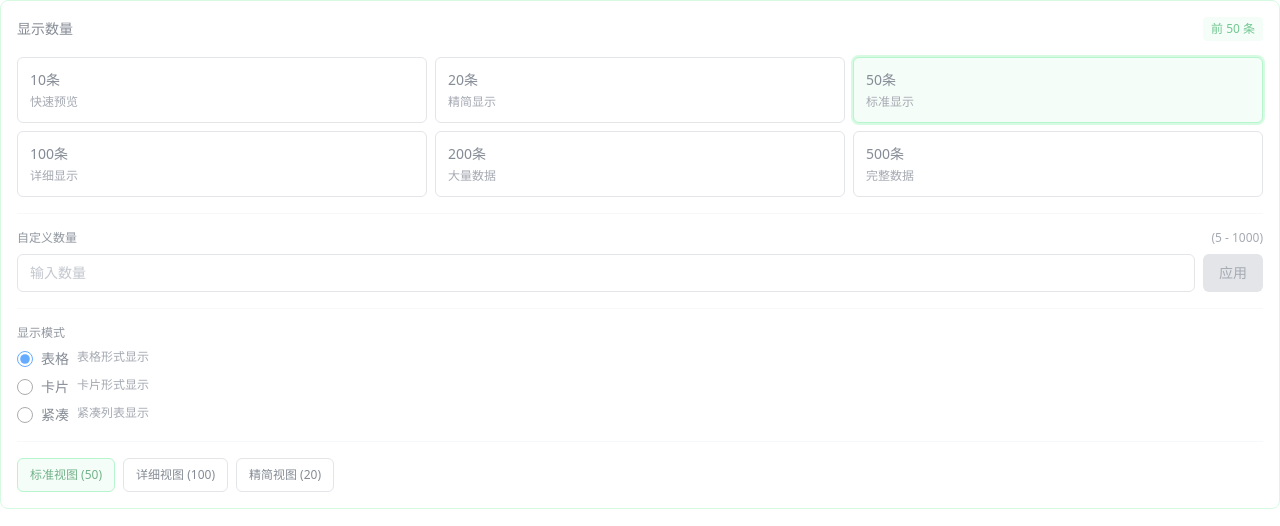
Test case: HotWordLimitSelector › 自定义数量功能 › 应该能够应用有效的自定义数量
In the number field with id "custom-limit": (606, 273) [17,254,1195,292], type "75"
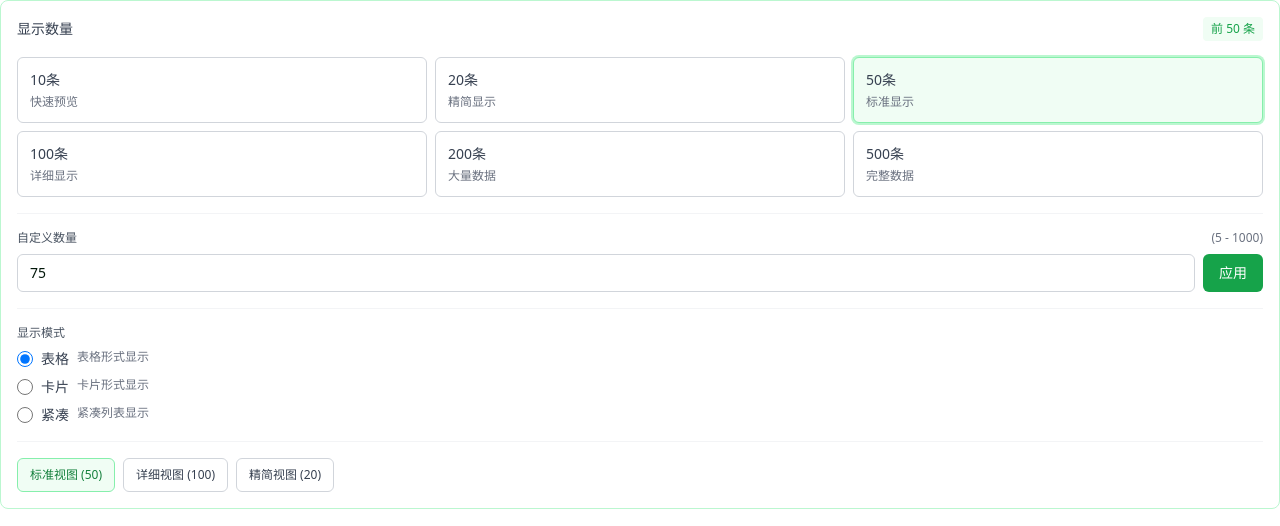
Click the button with class "apply-custom-button": (1233, 273) [1203,254,1263,292]
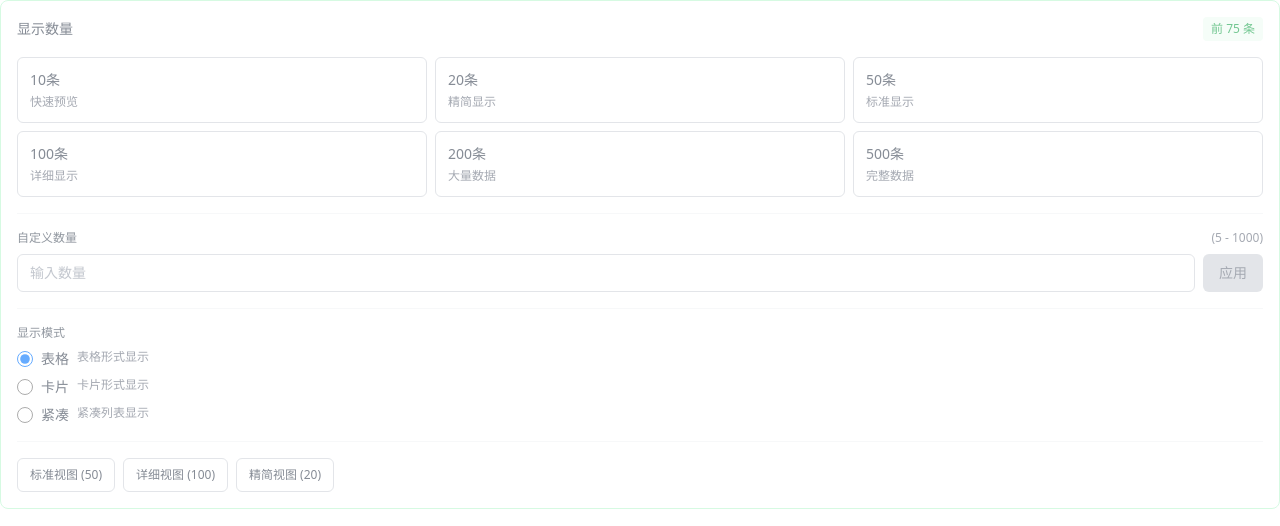
Expected: the text with class "limit-display" reads "前 75 条", [1211,20,1255,37]
